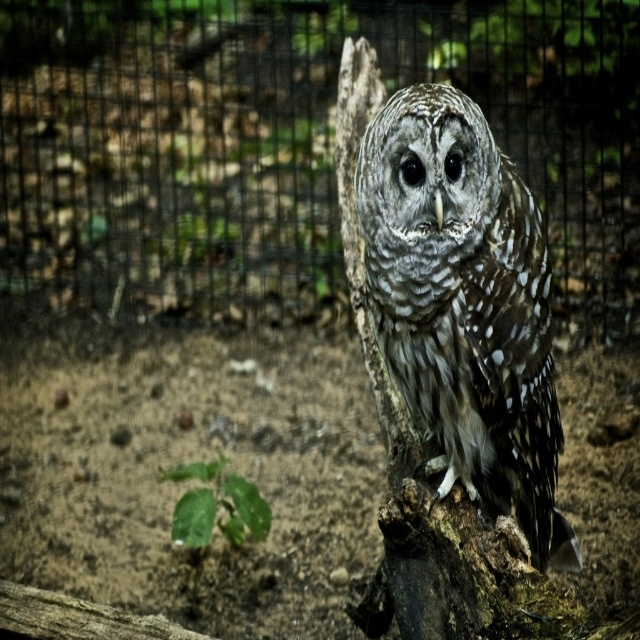Owl: (351, 72, 561, 579)
